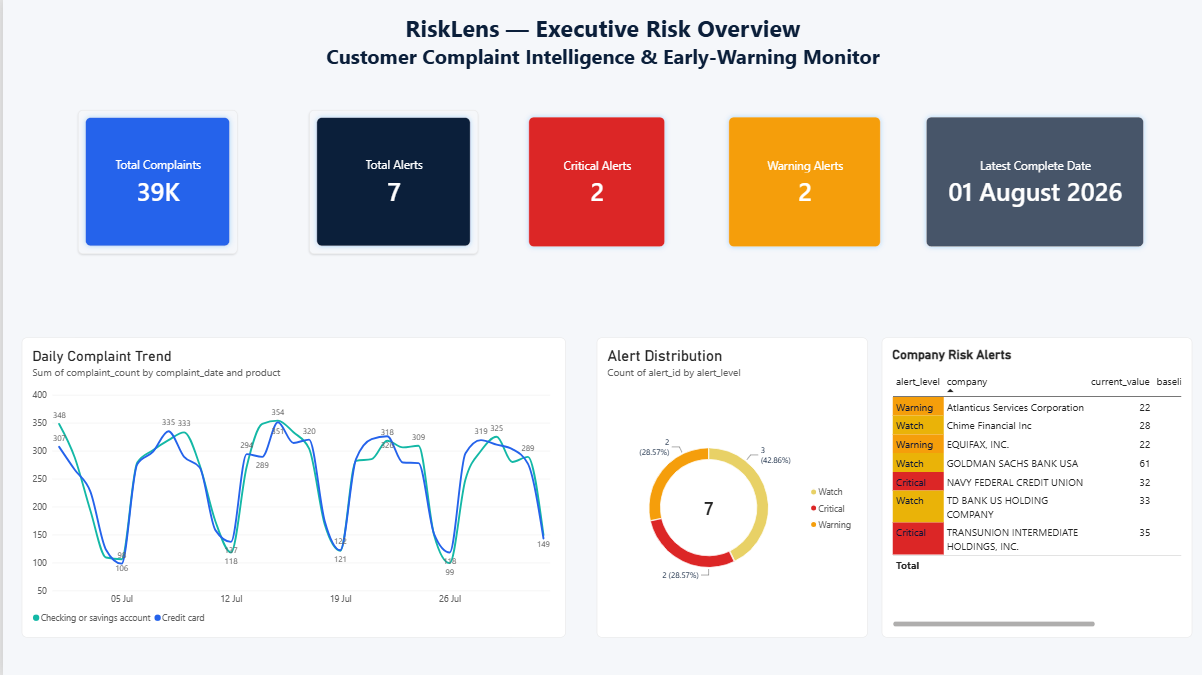

What the dashboard file says about the page in this screenshot:
{"tool":"powerbi","page":{"name":"Executive Overview","canvas":[1920,1080],"ordinal":0},"visuals":[{"type":"textbox","box":[0,0,1920,175],"z":0},{"type":"cardVisual","fields":{"Data":["emerging_themes.Latest Complete Date"]},"box":[1465,175,370,230],"z":1000},{"type":"cardVisual","fields":{"Data":["emerging_themes.Warning Alerts"]},"box":[1150,175,265,230],"z":2000},{"type":"cardVisual","fields":{"Data":["emerging_themes.Critical Alerts"]},"box":[830,175,240,230],"z":3000},{"type":"cardVisual","fields":{"Data":["risklens vw_risk_alerts.Total Alerts"]},"box":[490,175,270,230],"z":4000},{"type":"cardVisual","fields":{"Data":["emerging_themes.Total Complaints"]},"box":[120,175,255,230],"z":5000},{"type":"lineChart","title":"Daily Complaint Trend","fields":{"Y":["Sum(risklens vw_daily_product_metrics.complaint_count)"],"Series":["risklens vw_daily_product_metrics.product"],"Category":["risklens vw_daily_product_metrics.complaint_date"]},"box":[30,540,870,480],"z":6000},{"type":"donutChart","title":"Alert Distribution","fields":{"Category":["risklens vw_risk_alerts.alert_level"],"Y":["CountNonNull(risklens vw_risk_alerts.alert_id)"]},"box":[950,540,433.3,480],"z":7000},{"type":"tableEx","title":"Company Risk Alerts","fields":{"Values":["risklens vw_risk_alerts.alert_level","risklens vw_risk_alerts.company","risklens vw_risk_alerts.current_value","risklens vw_risk_alerts.baseline_value","risklens vw_risk_alerts.anomaly_z_score"]},"box":[1405,540,496.7,480],"z":8000}]}

Visuals, with their boxes in screenshot pixels (x1, y1, x2, y2), scaled from the page's 1920x1080 canvas onto the 1202x675 screenshot:
textbox: l=0, t=0, r=1201, b=109
cardVisual - emerging_themes.Latest Complete Date: l=917, t=109, r=1149, b=253
cardVisual - emerging_themes.Warning Alerts: l=720, t=109, r=886, b=253
cardVisual - emerging_themes.Critical Alerts: l=520, t=109, r=670, b=253
cardVisual - risklens vw_risk_alerts.Total Alerts: l=307, t=109, r=476, b=253
cardVisual - emerging_themes.Total Complaints: l=75, t=109, r=235, b=253
"Daily Complaint Trend" lineChart: l=19, t=338, r=563, b=638
"Alert Distribution" donutChart: l=595, t=338, r=866, b=638
"Company Risk Alerts" tableEx: l=880, t=338, r=1191, b=638
